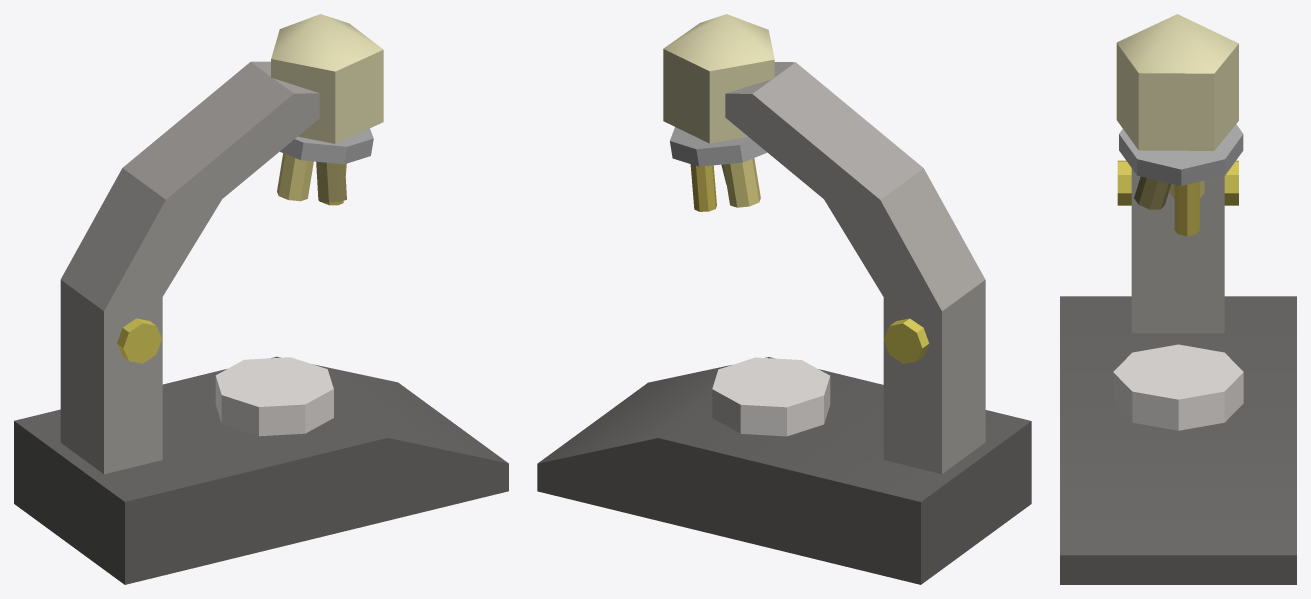
The model's file is microscoop.fbx.
The picture shows the model from 3 angles, left to right: view 1: azimuth 30°, elevation 25°; view 2: azimuth 150°, elevation 25°; view 3: azimuth 270°, elevation 25°; orthographic projection. The views are drawn at different scales.
Parts seen in each view (by area): view 1: microscoop; view 2: microscoop; view 3: microscoop.
Part boxes in pixels (x1,y1,x2,y2): microscoop: (14, 14, 508, 584); microscoop: (537, 14, 1031, 584); microscoop: (1060, 14, 1296, 584).
Size of the model in its own units: 30 by 35.05 by 15.
Materials: 1 (1 with a texture image).
